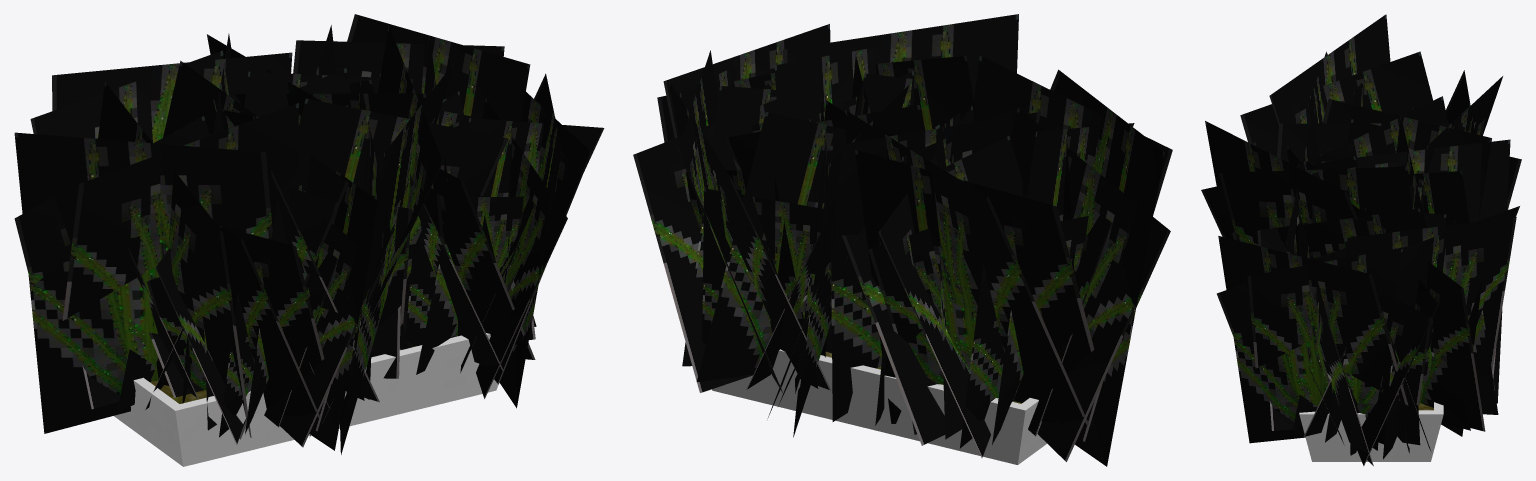
File: planter_long.glb
The picture shows the model from 3 angles, left to right: view 1: azimuth 30°, elevation 25°; view 2: azimuth 150°, elevation 25°; view 3: azimuth 270°, elevation 25°; orthographic projection. The views are drawn at different scales.
Visible parts, largest first — view 1: Pot_3_Low_PolyPlant_0; view 2: Pot_3_Low_PolyPlant_0; view 3: Pot_3_Low_PolyPlant_0.
Part boxes in pixels (left/top/right/bottom): Pot_3_Low_PolyPlant_0: left=14, top=14, right=604, bottom=466; Pot_3_Low_PolyPlant_0: left=633, top=14, right=1172, bottom=466; Pot_3_Low_PolyPlant_0: left=1201, top=14, right=1521, bottom=466.
Size of the model in its own units: 0.7726 by 0.45 by 0.4677.
Materials: 1 (1 with a texture image).
